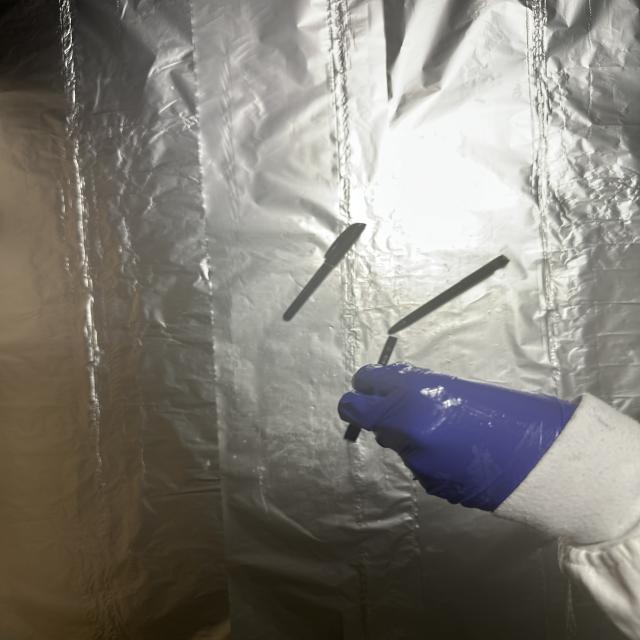gloves_contaminated: (338, 363, 576, 511)
